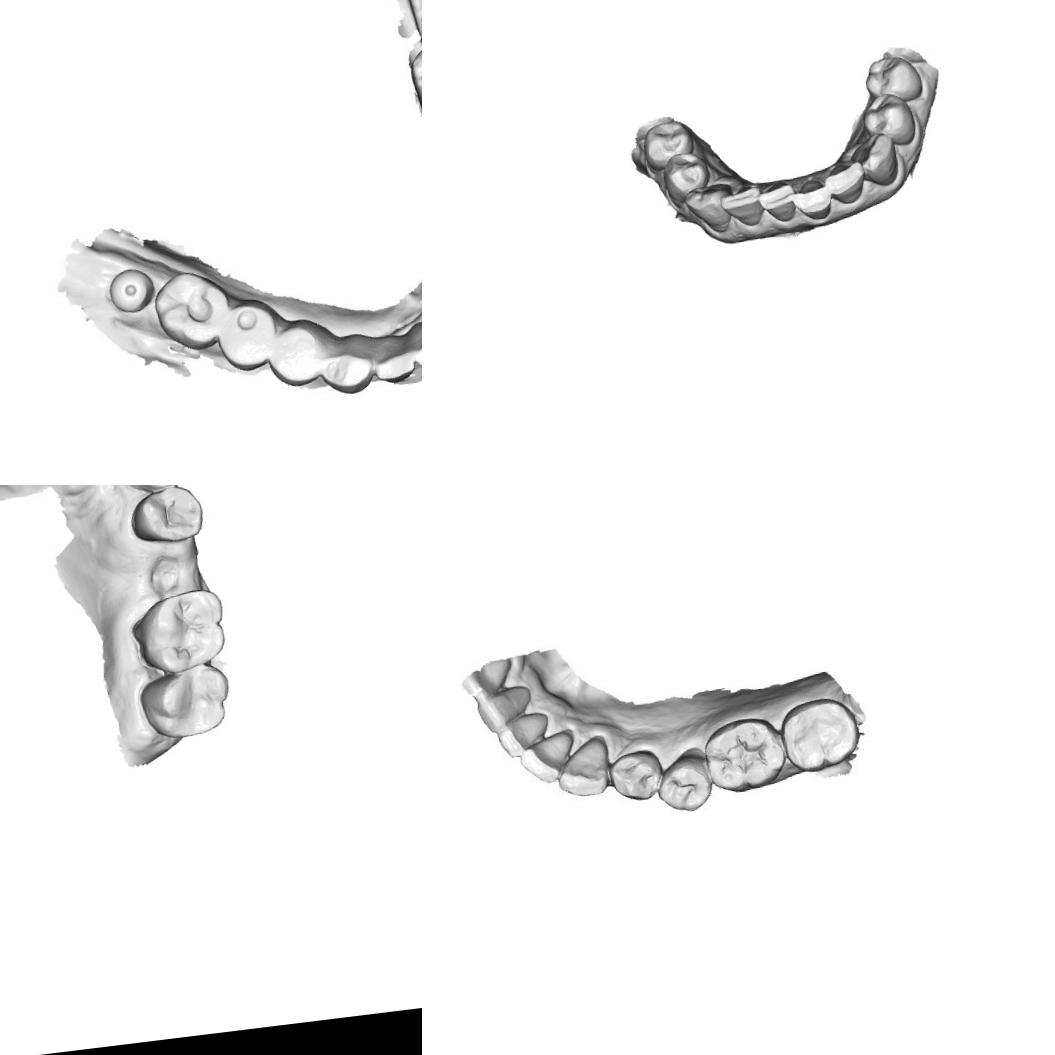canine: (552, 734, 613, 800), (837, 130, 901, 192), (318, 345, 381, 398), (682, 181, 739, 237)
implant: (103, 261, 155, 320)
incisor: (516, 729, 581, 786), (474, 684, 536, 734), (494, 710, 552, 760), (371, 337, 422, 385), (718, 181, 766, 230), (788, 177, 834, 223), (824, 160, 869, 206), (755, 178, 798, 226), (407, 320, 422, 370)
molar: (126, 584, 233, 678), (134, 660, 236, 744), (148, 266, 236, 356), (699, 713, 789, 797), (776, 692, 864, 776)
premolar: (212, 294, 282, 374), (123, 485, 206, 548), (261, 315, 328, 391), (651, 750, 716, 816), (606, 745, 668, 806), (858, 89, 918, 151), (860, 52, 924, 107), (640, 118, 698, 175), (660, 148, 714, 206)
